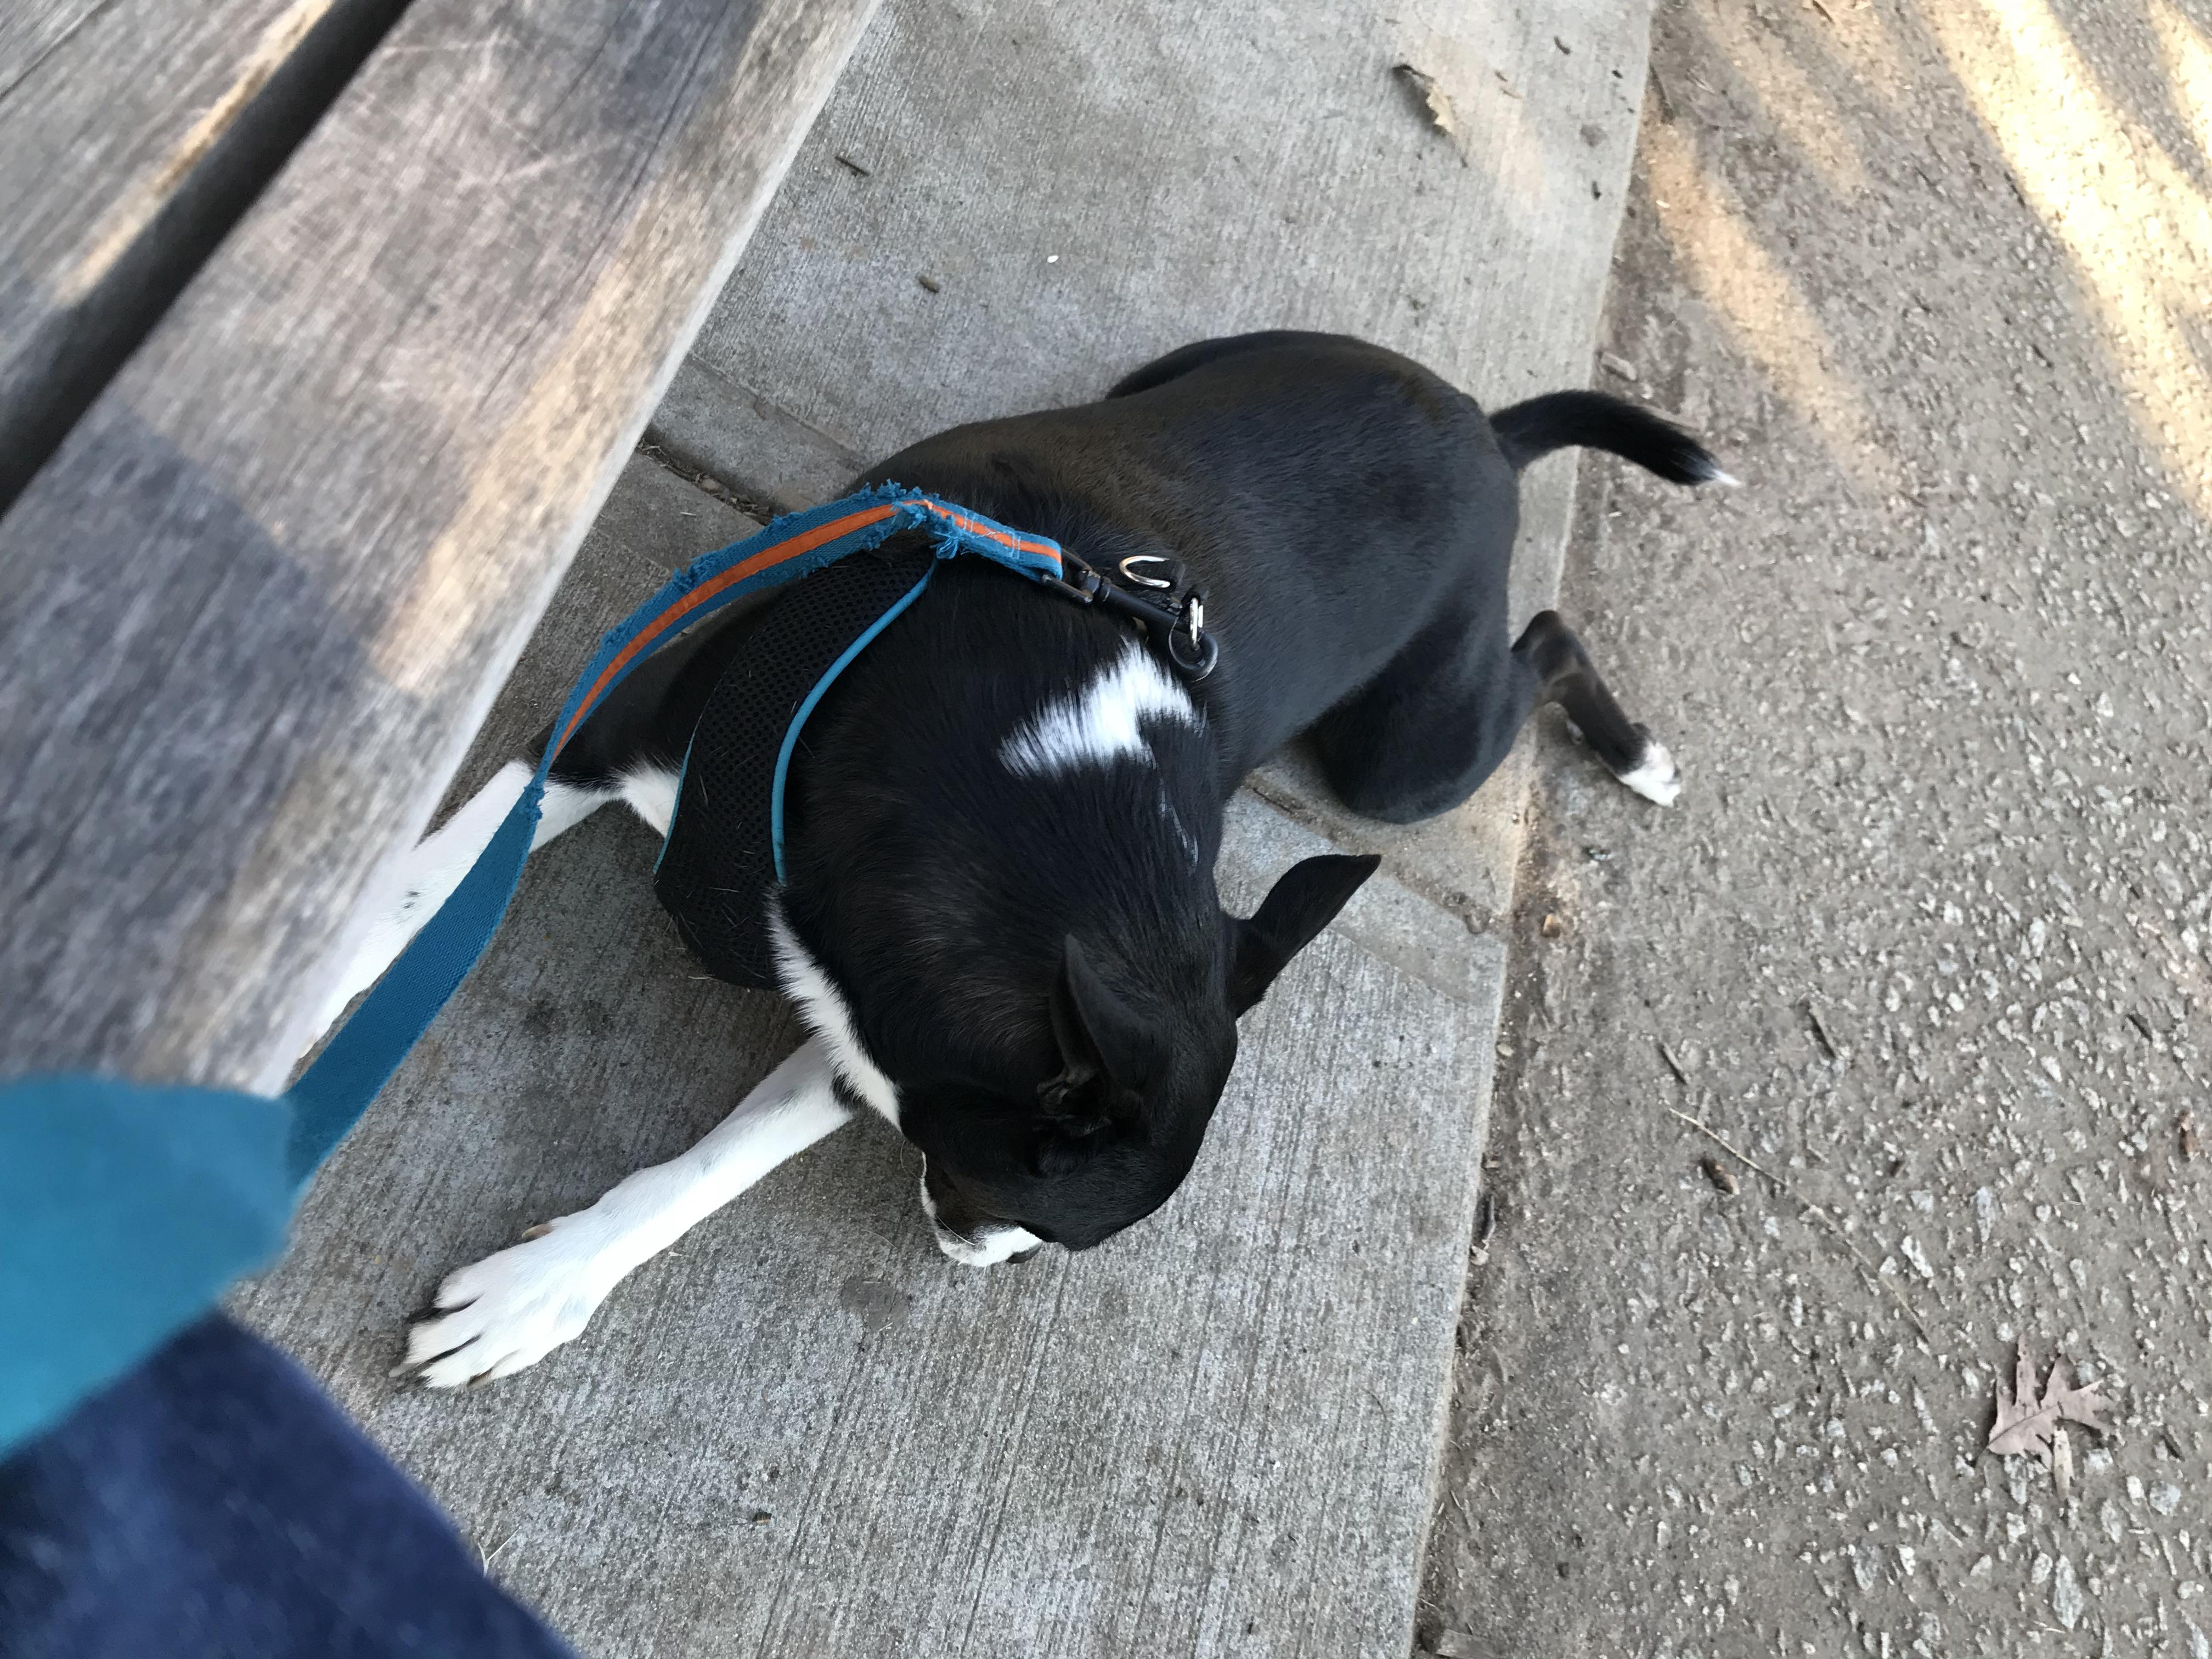Harley: (371, 314, 1750, 1405)
